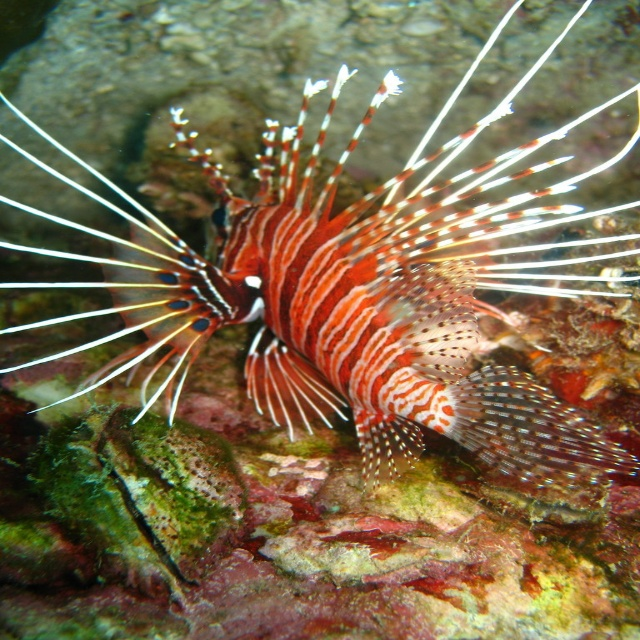Fish: (0, 0, 640, 510)
